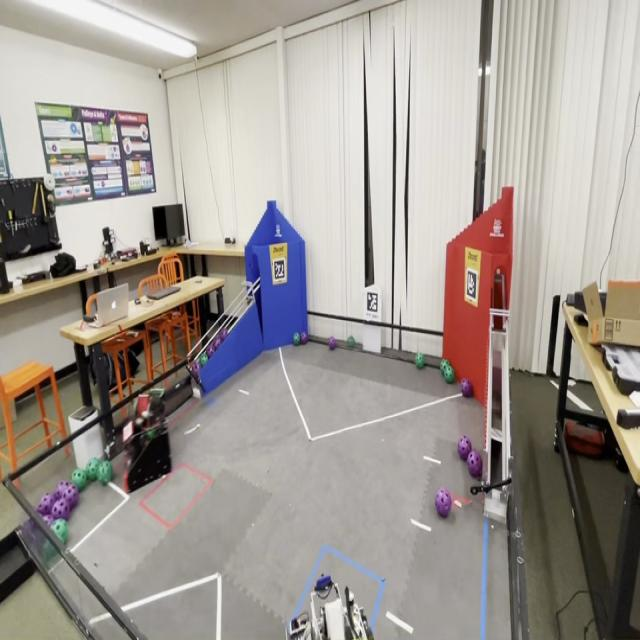artifact_green: (51, 520, 68, 545), (42, 540, 58, 565), (71, 469, 87, 491), (98, 462, 112, 485), (86, 458, 99, 481), (444, 367, 455, 383), (146, 429, 159, 442), (415, 352, 424, 369), (440, 360, 449, 375), (347, 335, 356, 349), (200, 352, 208, 367), (293, 332, 301, 346), (328, 336, 336, 350), (301, 332, 308, 344), (446, 364, 454, 372)
artifact_purple: (435, 488, 451, 517), (63, 483, 79, 510), (467, 451, 482, 478), (51, 498, 69, 520), (21, 520, 39, 540), (38, 494, 55, 515), (458, 435, 471, 461), (54, 480, 69, 500), (461, 379, 472, 398), (191, 361, 200, 378), (43, 515, 55, 527), (206, 342, 215, 357), (219, 329, 227, 342), (214, 336, 221, 350), (328, 337, 336, 349), (300, 332, 308, 344)
